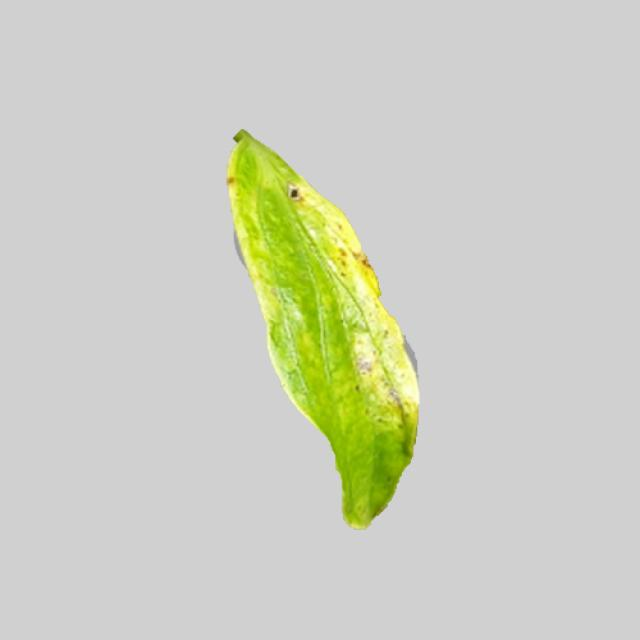yellow-mottle-virus: (221, 130, 420, 532)
